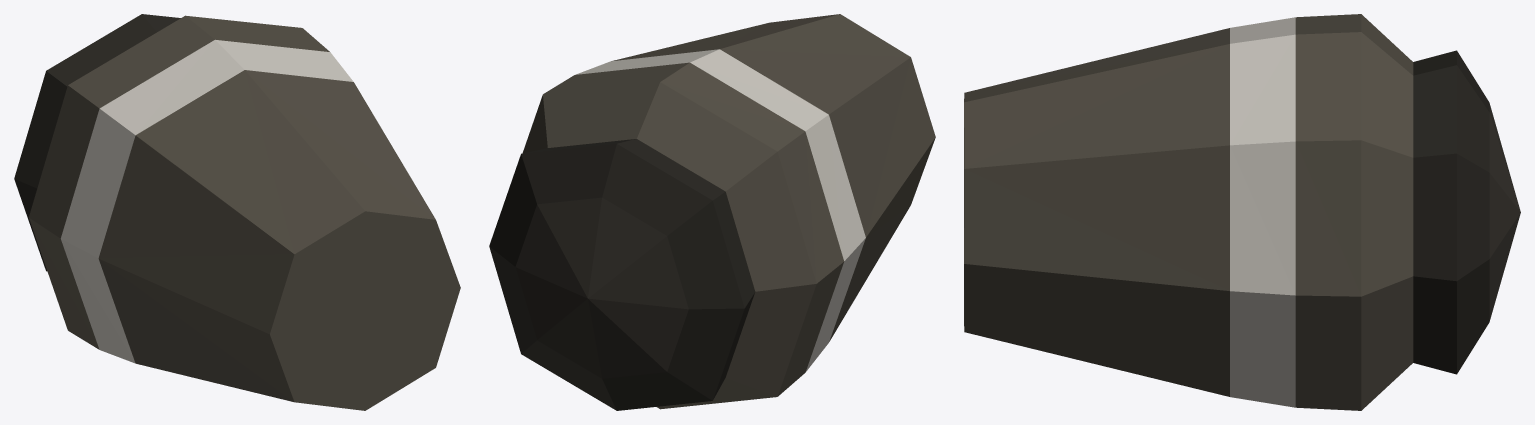
Rendered from Urn 02.FBX.
3 renders of one model, left to right at view 1: azimuth 30°, elevation 25°; view 2: azimuth 150°, elevation 25°; view 3: azimuth 270°, elevation 25°, orthographic. The views are drawn at different scales.
Parts seen in each view (by area): view 1: Urn 02; view 2: Urn 02; view 3: Urn 02.
Part boxes in pixels (box(x1,y1,x2,y2)): Urn 02: box(14, 14, 460, 410); Urn 02: box(489, 14, 935, 410); Urn 02: box(964, 14, 1520, 410).
Bounding box in the file's own units: 38.55 × 53.86 × 38.52.
